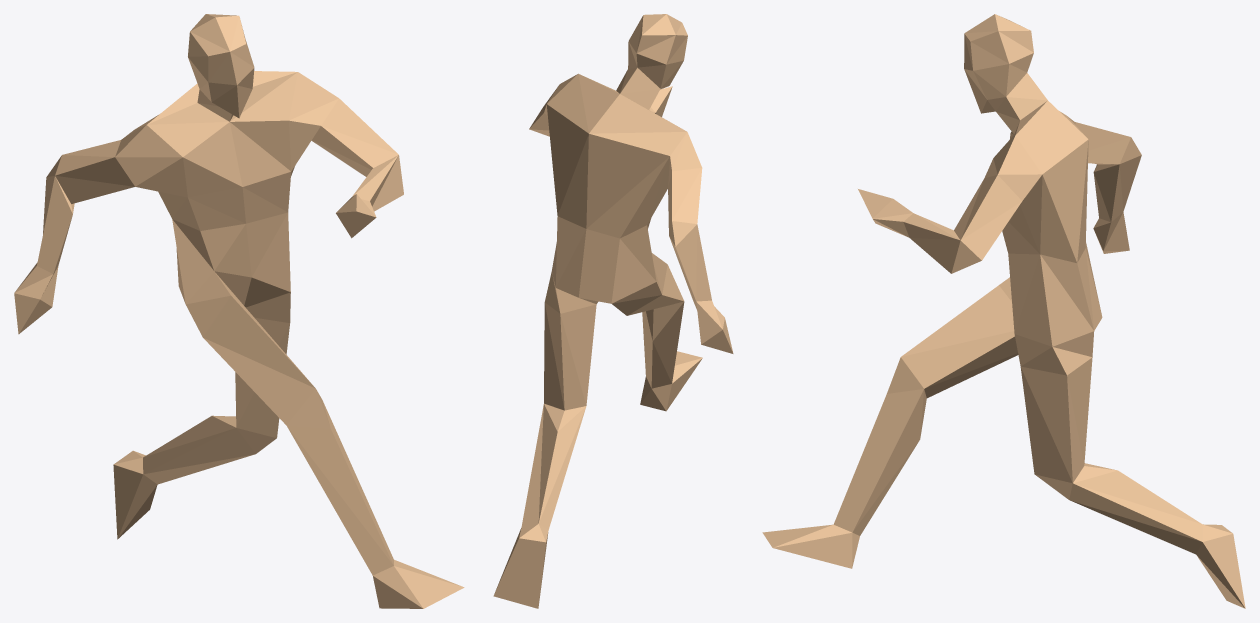
3 renders of one model, left to right at view 1: azimuth 30°, elevation 25°; view 2: azimuth 150°, elevation 25°; view 3: azimuth 270°, elevation 25°, orthographic. The views are drawn at different scales.
Bounding box in the file's own units: 1.07 × 2.06 × 1.57.
1 material, 1 textured.
